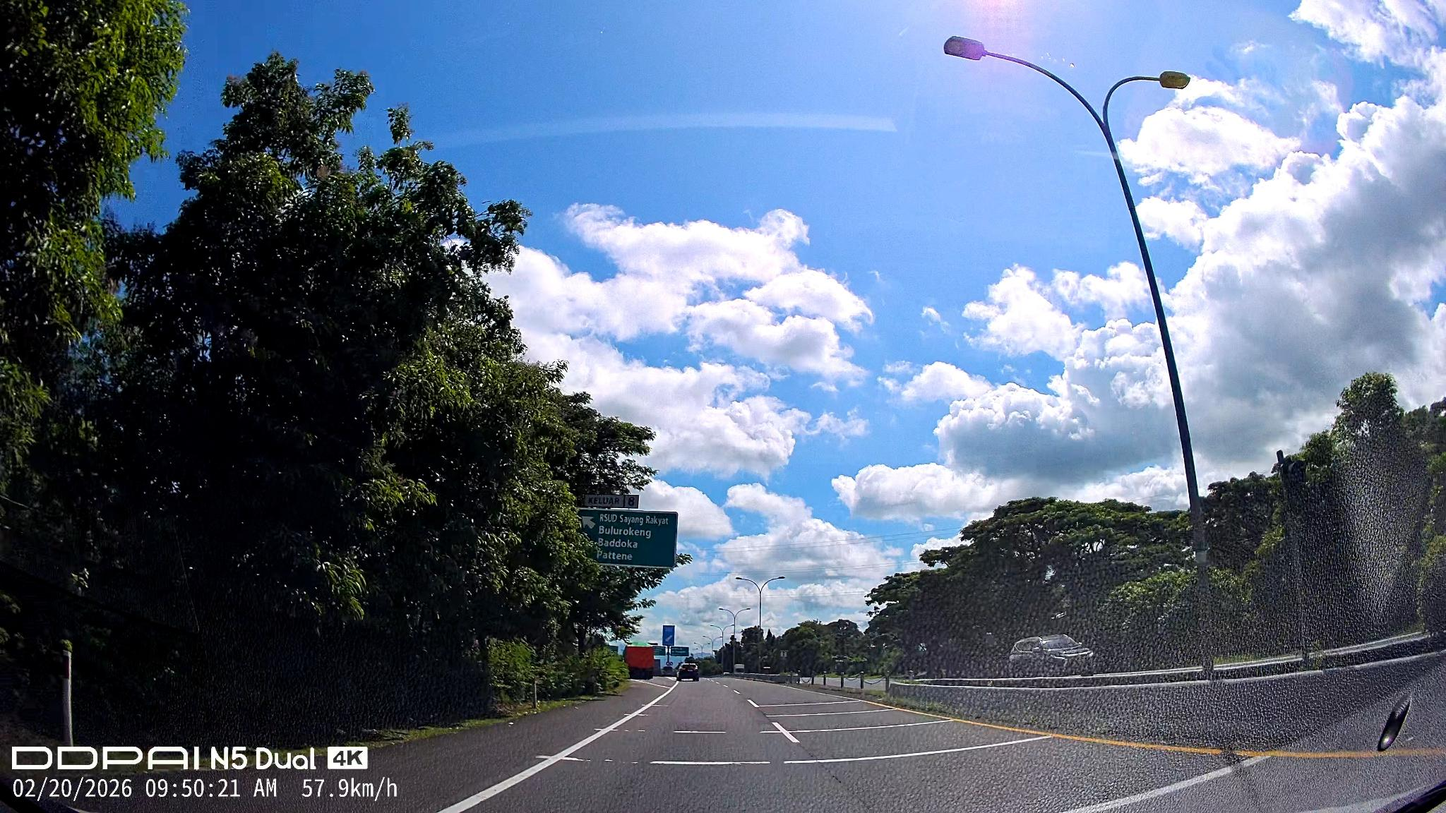rambu_teks: (581, 508, 678, 569)
